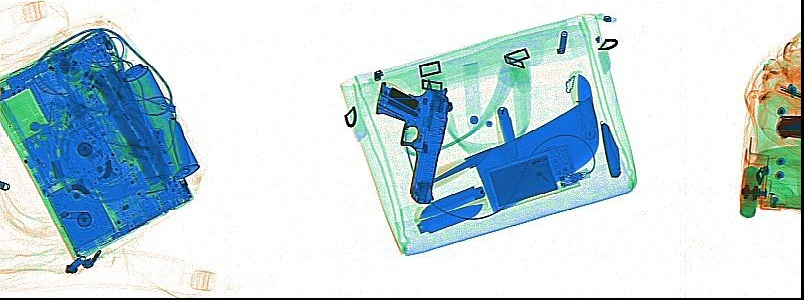knife: (423, 95, 599, 214), (414, 197, 488, 235), (411, 184, 485, 221), (567, 69, 598, 141), (493, 105, 519, 162), (597, 119, 621, 178), (172, 120, 191, 175)
pressure: (122, 62, 200, 180)
